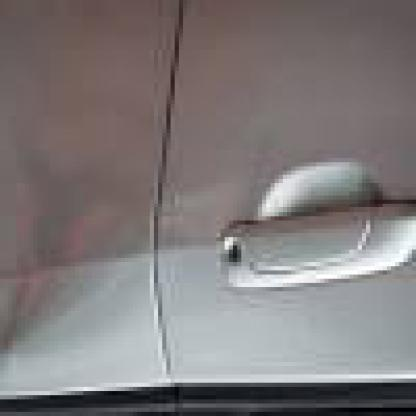dent: (4, 116, 54, 350)
